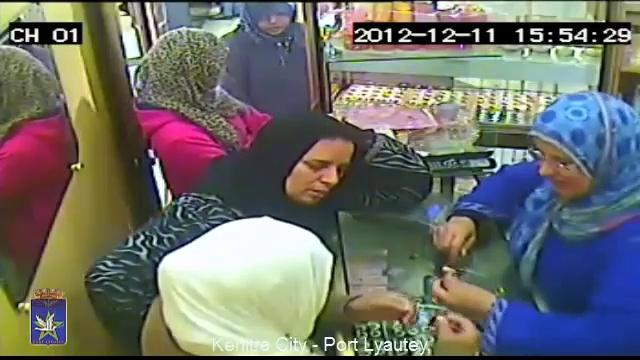1: (436, 260, 458, 285)
2: (456, 73, 640, 360)
3: (121, 210, 472, 360), (109, 22, 241, 173), (247, 109, 378, 231), (224, 0, 323, 106)
persone: (364, 134, 430, 217)
